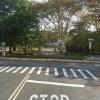Crosswalk: (1, 55, 100, 89)
